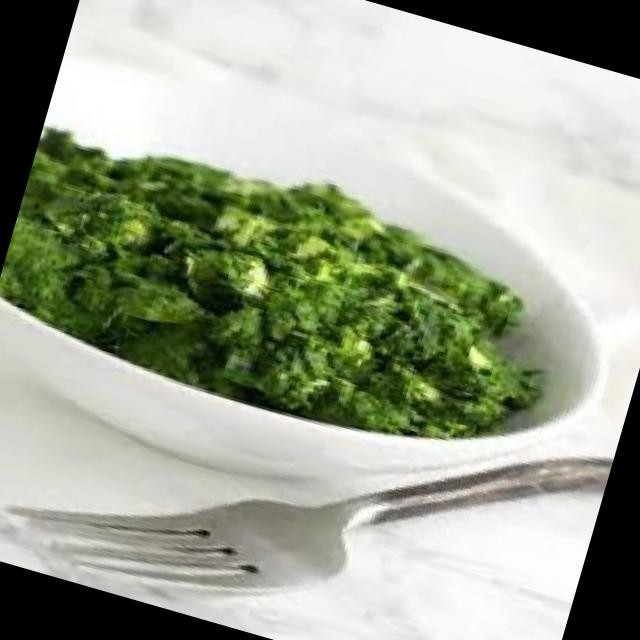palak_paneer: (0, 102, 579, 480)
